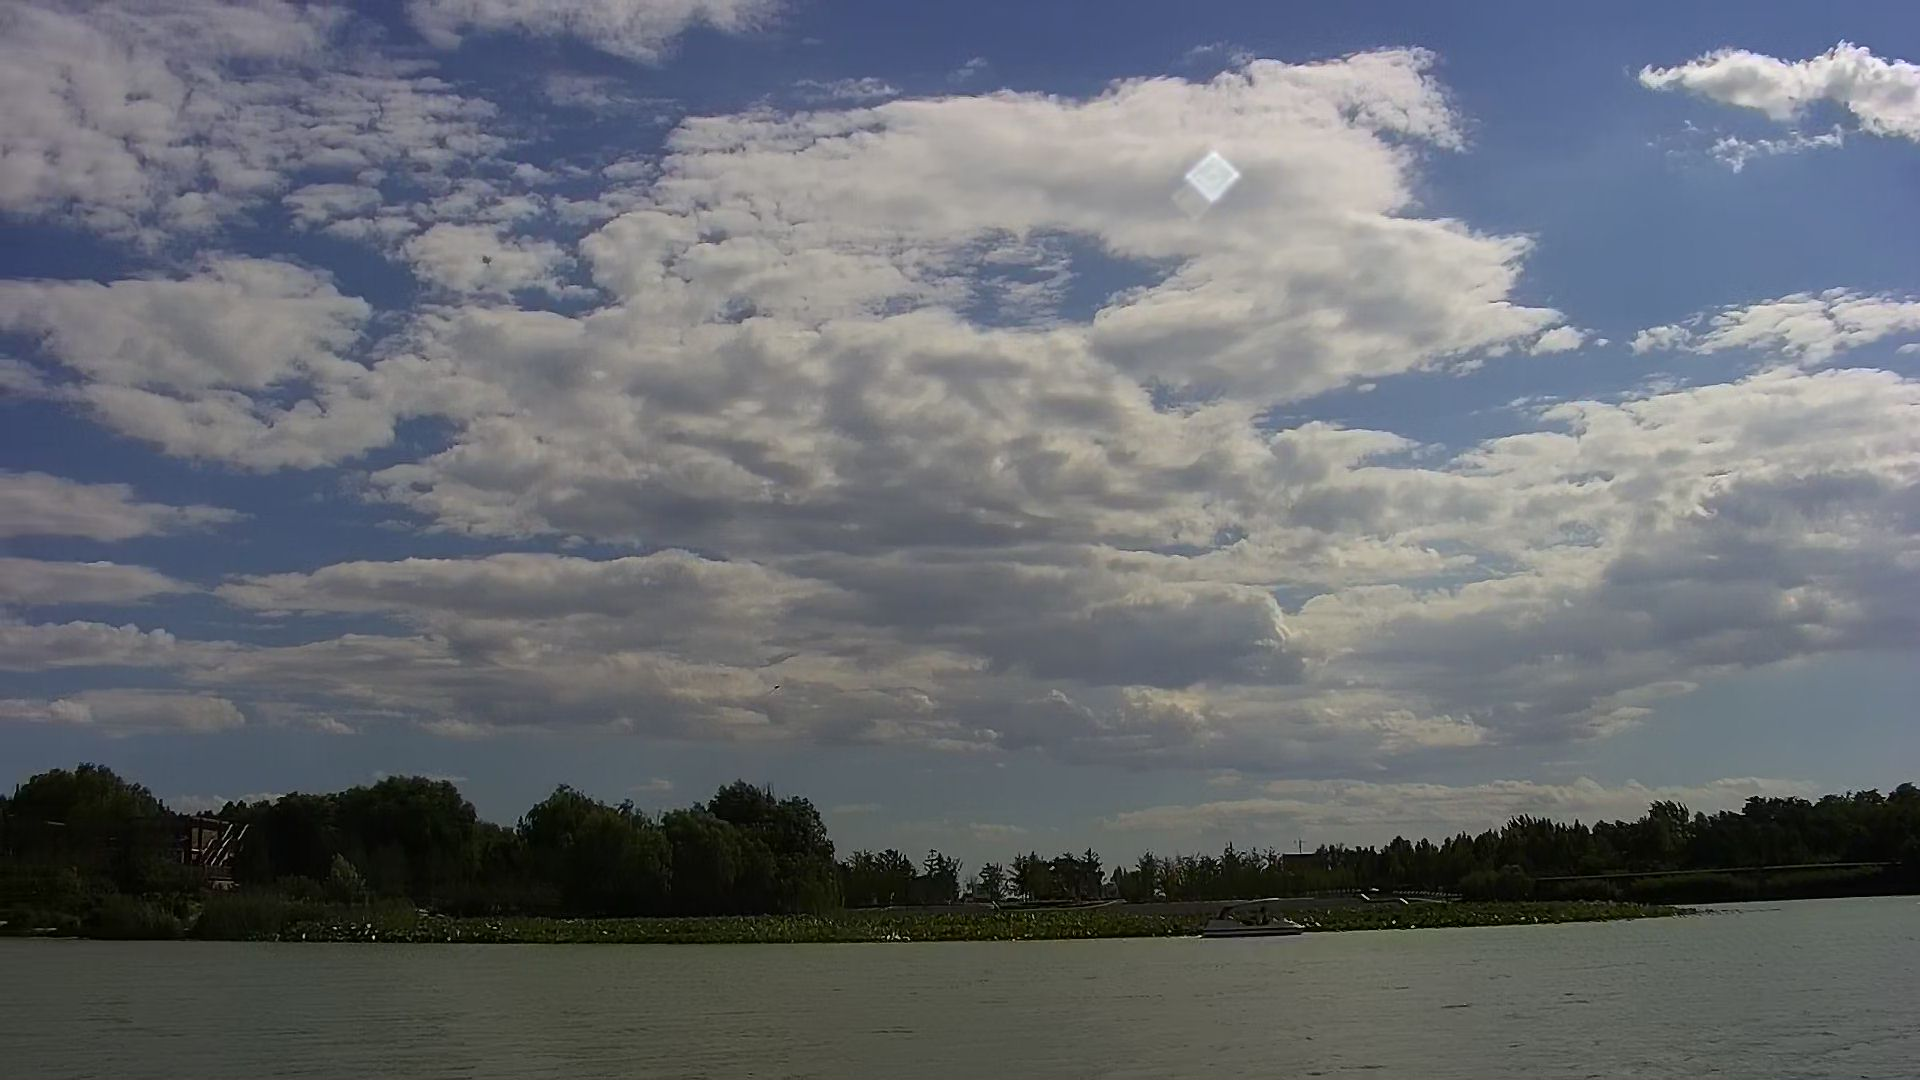boat: (1199, 887, 1312, 945)
